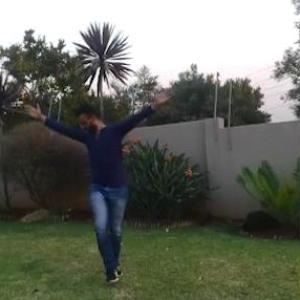takeoff: (20, 87, 171, 287)
